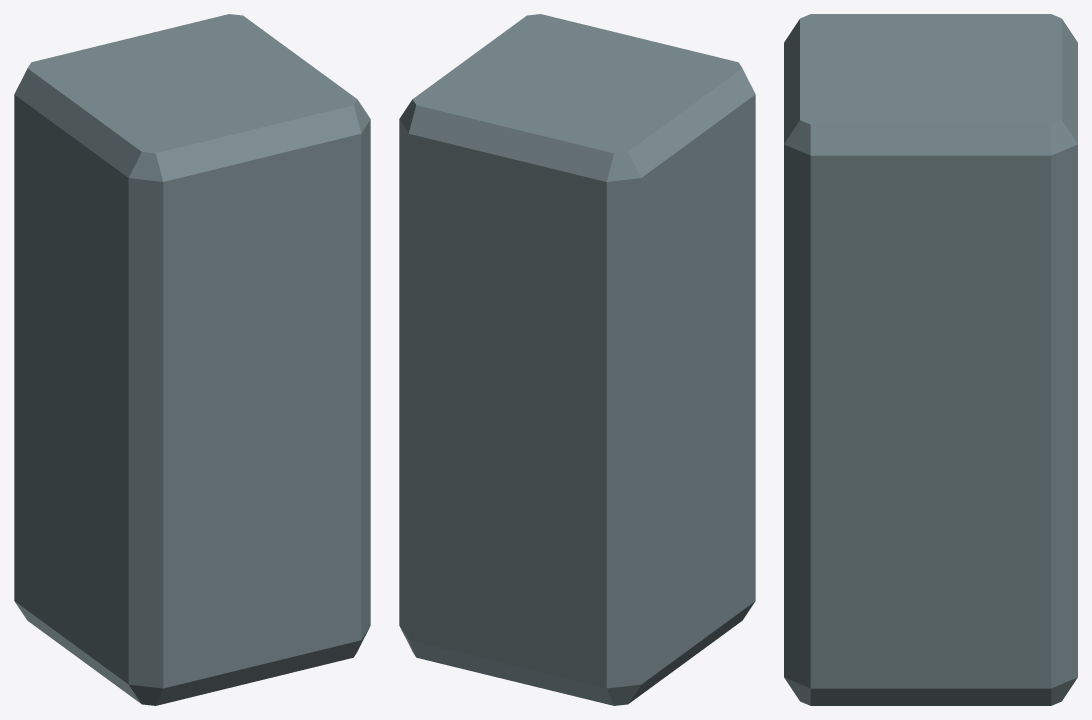
File: lidar_pedestal.dae
3 renders of one model, left to right at view 1: azimuth 30°, elevation 25°; view 2: azimuth 150°, elevation 25°; view 3: azimuth 270°, elevation 25°, orthographic. The views are drawn at different scales.
Parts seen in each view (by area): view 1: part; view 2: part; view 3: part.
Part boxes in pixels (x1,y1,x2,y2): part: (14, 14, 370, 705); part: (399, 14, 755, 705); part: (784, 14, 1077, 705).
Size of the model in its own units: 0.055 by 0.055 by 0.12.
